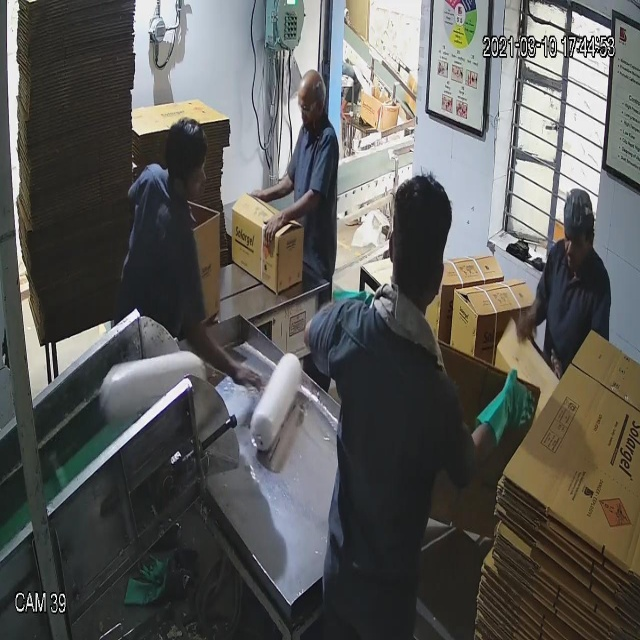Guantes: (464, 354, 541, 460)
Sin_guantes: (186, 299, 262, 410), (254, 190, 325, 250)
